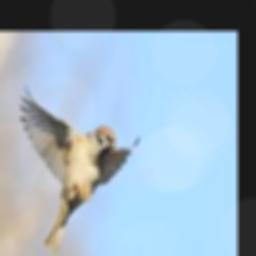Sparrow: (21, 84, 140, 253)
